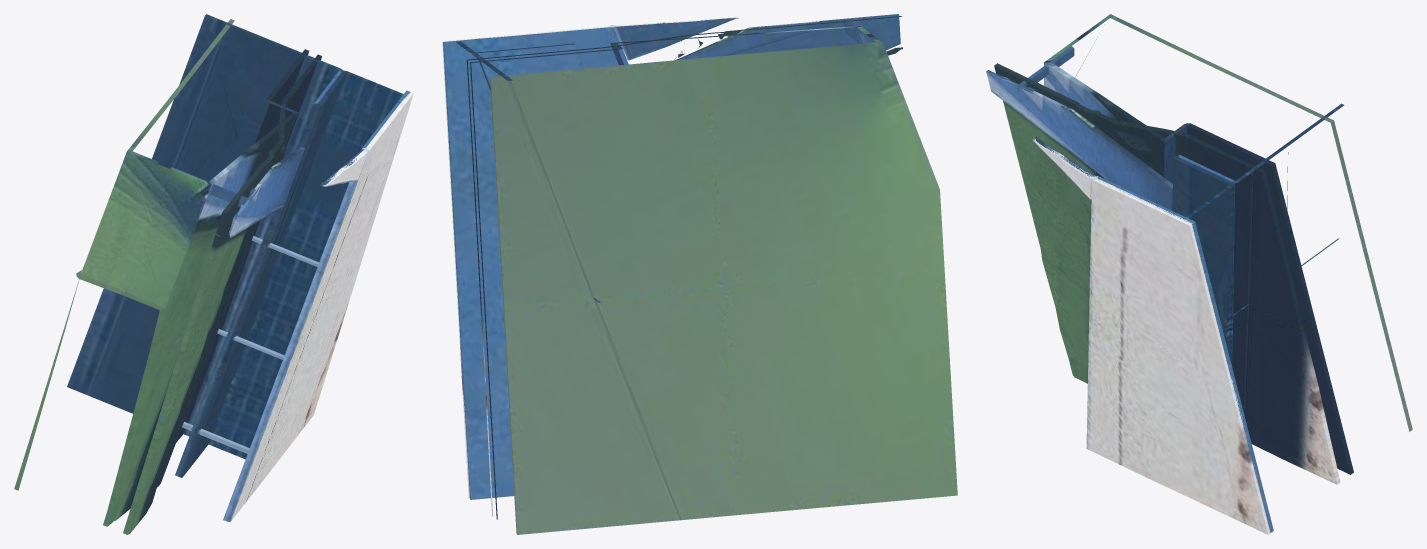
File: congresso_tile_191.glb
The picture shows the model from 3 angles, left to right: view 1: azimuth 30°, elevation 25°; view 2: azimuth 150°, elevation 25°; view 3: azimuth 270°, elevation 25°; orthographic projection. The views are drawn at different scales.
Bounding box in the file's own units: 47.19 × 42.59 × 41.66.
1 material, 1 textured.
